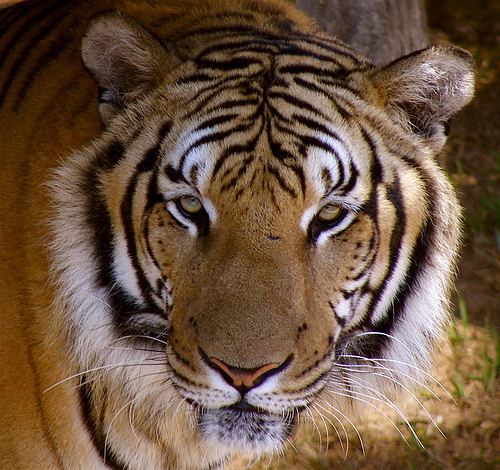Tigre: (34, 13, 474, 449)
